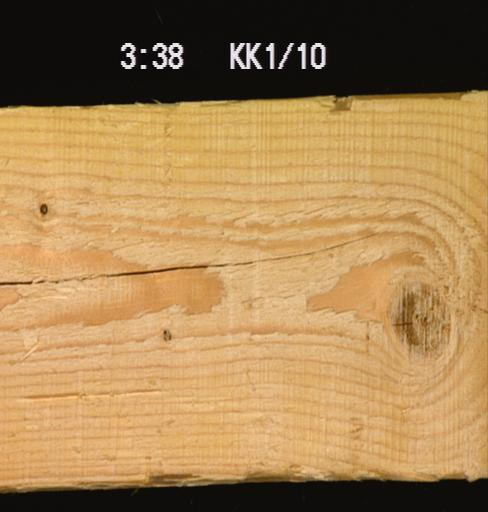dry_knot: (37, 201, 47, 215)
small_knot: (159, 327, 172, 343)
sound_knot: (392, 287, 454, 355)
split: (0, 228, 381, 286)
wave: (75, 457, 487, 488)
